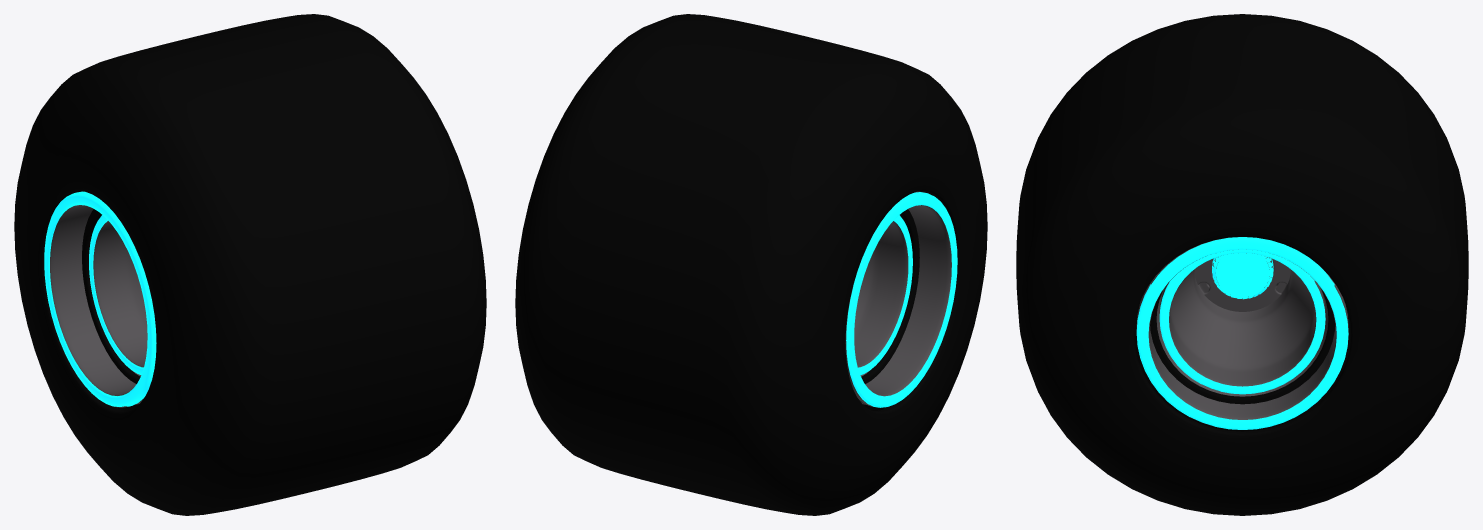
File: llantas.fbx
3 renders of one model, left to right at view 1: azimuth 30°, elevation 25°; view 2: azimuth 150°, elevation 25°; view 3: azimuth 270°, elevation 25°, orthographic. The views are drawn at different scales.
Visible parts, largest first — view 1: TC_RT_Kart_Basic_Slick.026, TC_RT_Kart_Basic_Slick.027, TC_RT_Kart_Basic_Slick.028, TC_RT_Kart_Basic_Slick.025; view 2: TC_RT_Kart_Basic_Slick.026, TC_RT_Kart_Basic_Slick.027, TC_RT_Kart_Basic_Slick.028, TC_RT_Kart_Basic_Slick.025; view 3: TC_RT_Kart_Basic_Slick.027, TC_RT_Kart_Basic_Slick.026, TC_RT_Kart_Basic_Slick.025, TC_RT_Kart_Basic_Slick.028.
Boxes of the visible parts, x1,y1,x2,y2 form: TC_RT_Kart_Basic_Slick.026: (14, 14, 482, 515); TC_RT_Kart_Basic_Slick.027: (27, 14, 486, 515); TC_RT_Kart_Basic_Slick.028: (70, 191, 147, 410); TC_RT_Kart_Basic_Slick.025: (82, 209, 147, 383); TC_RT_Kart_Basic_Slick.026: (519, 15, 987, 514); TC_RT_Kart_Basic_Slick.027: (515, 14, 974, 515); TC_RT_Kart_Basic_Slick.028: (854, 191, 932, 410); TC_RT_Kart_Basic_Slick.025: (858, 209, 919, 384); TC_RT_Kart_Basic_Slick.027: (1016, 14, 1468, 515); TC_RT_Kart_Basic_Slick.026: (1016, 14, 1468, 515); TC_RT_Kart_Basic_Slick.025: (1134, 249, 1350, 431); TC_RT_Kart_Basic_Slick.028: (1134, 281, 1350, 404).
Bounding box in the file's own units: 38.92 × 51.91 × 51.91.
